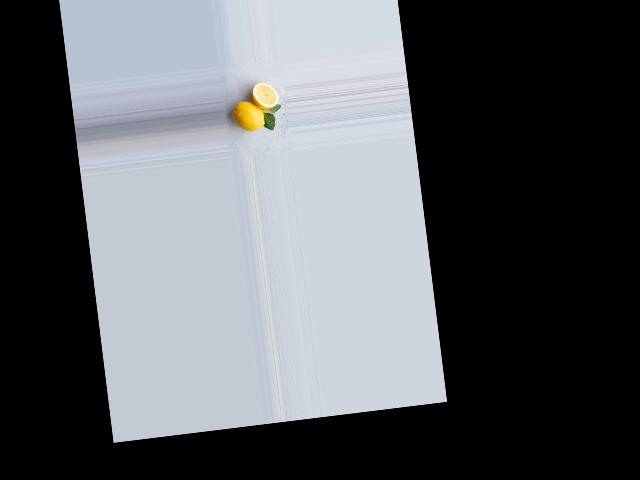lemon: (230, 99, 268, 136)
